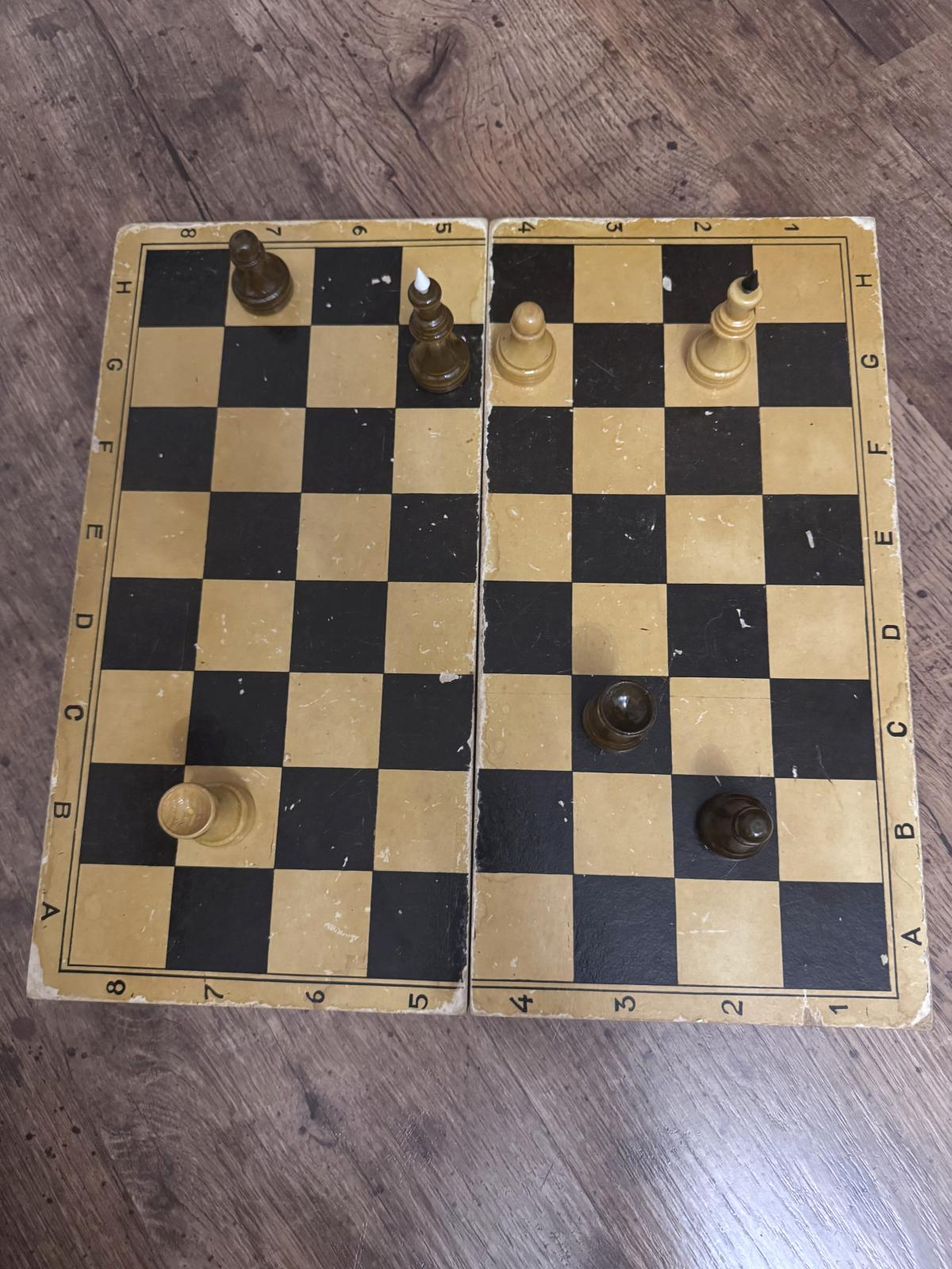Chess-Board: (68, 244, 891, 991)
